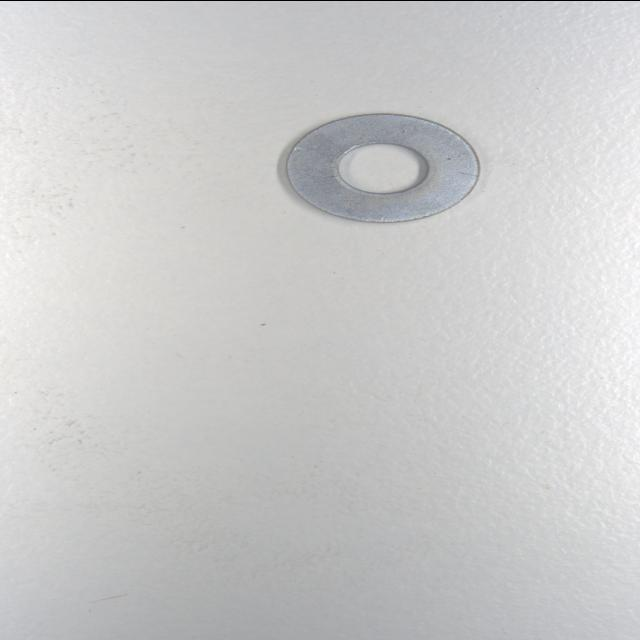washer: (284, 112, 484, 224)
